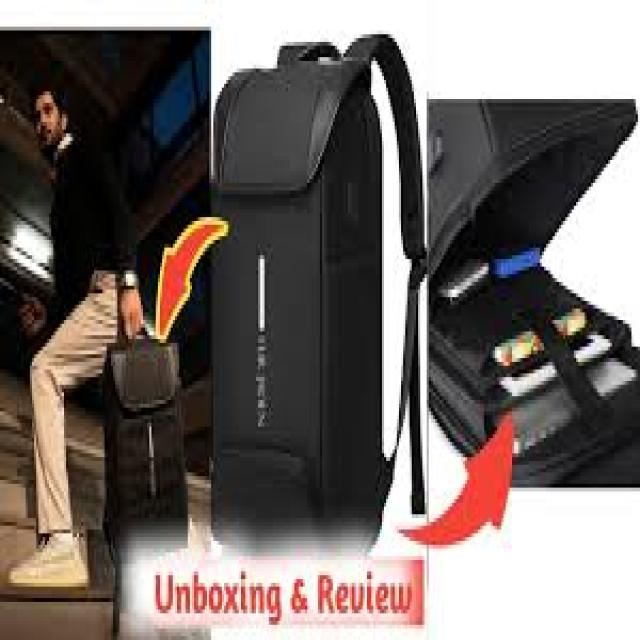backpack: (207, 26, 425, 560), (427, 81, 640, 481), (102, 323, 190, 559)
